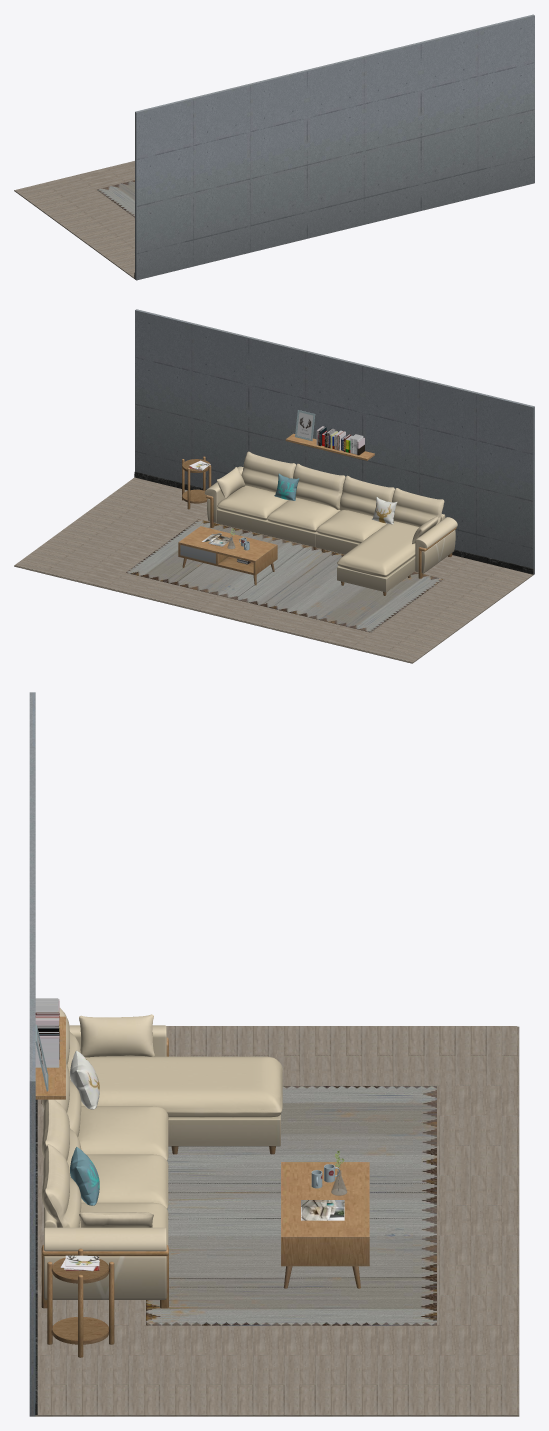
File: scene-min.glb
3 views of the same model, one above another, from view 1: azimuth 30°, elevation 25°; view 2: azimuth 150°, elevation 25°; view 3: azimuth 270°, elevation 25° (orthographic). The views are drawn at different scales.
Parts seen in each view (by area): view 1: sofa_6; view 2: sofa_6, sofa_4, sofa_2, sofa_10; view 3: sofa_6, sofa_4, sofa_2, sofa_10.
Part boxes in pixels (<box>): sofa_6: <box>14,14,534,280</box>; sofa_6: <box>14,309,534,663</box>; sofa_4: <box>189,451,444,577</box>; sofa_2: <box>134,433,533,595</box>; sofa_10: <box>239,426,364,550</box>; sofa_6: <box>29,692,519,1416</box>; sofa_4: <box>41,1008,344,1271</box>; sofa_2: <box>35,1016,369,1414</box>; sofa_10: <box>35,998,339,1188</box>.
Bounding box in the file's own units: 622 × 250 × 331.
Materials: 5 (5 with a texture image).
